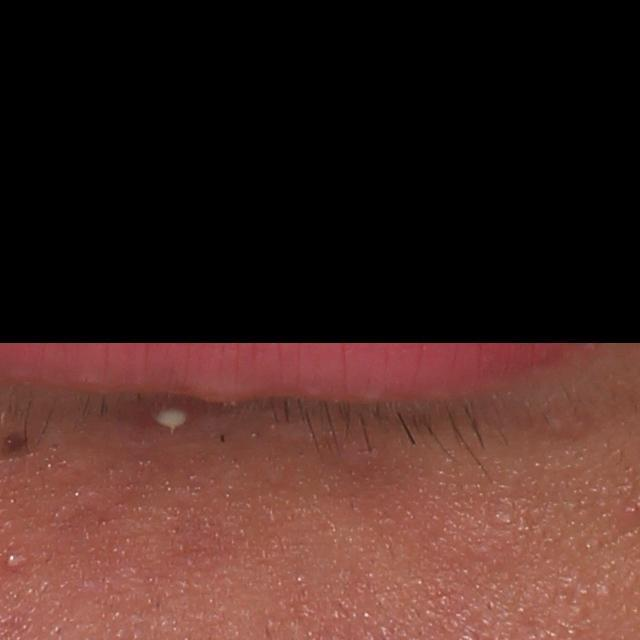nevus: (4, 432, 26, 457)
pustule: (154, 396, 199, 436), (0, 546, 28, 573)
